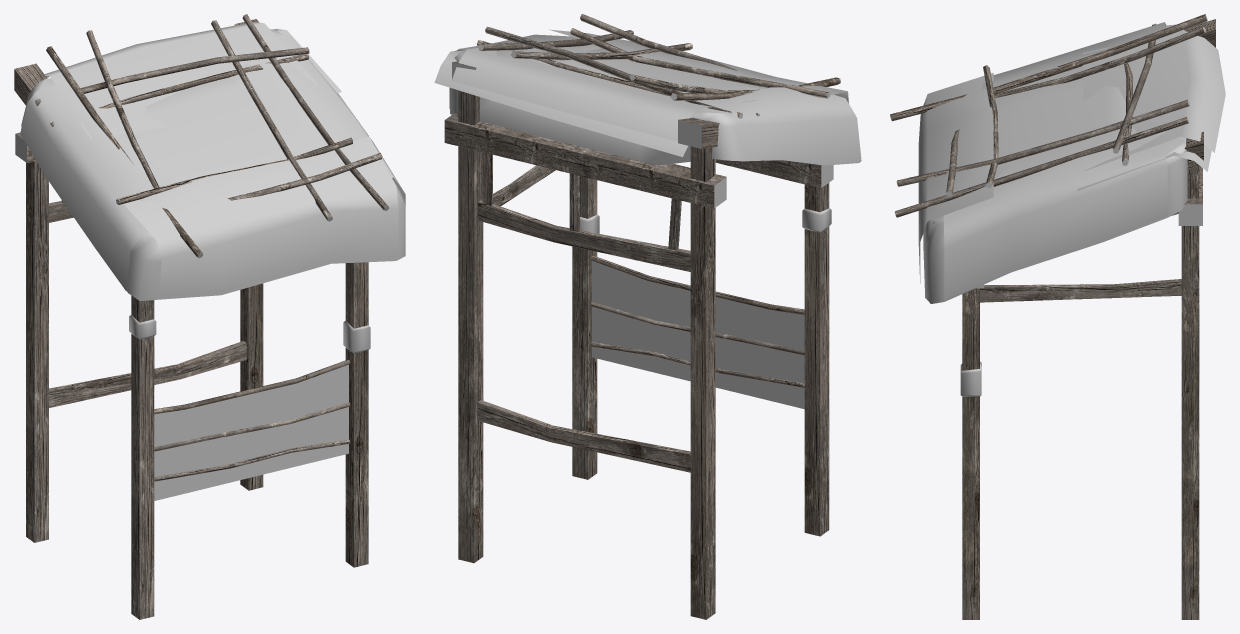
File: Stall4.fbx
3 renders of one model, left to right at view 1: azimuth 30°, elevation 25°; view 2: azimuth 150°, elevation 25°; view 3: azimuth 270°, elevation 25°, orthographic. The views are drawn at different scales.
Parts seen in each view (by area): view 1: polySurface2551; view 2: polySurface2551; view 3: polySurface2551.
Part boxes in pixels (bbox=[...]): polySurface2551: bbox=[14, 14, 405, 619]; polySurface2551: bbox=[434, 14, 861, 619]; polySurface2551: bbox=[890, 14, 1225, 619].
Bounding box in the file's own units: 3.5 × 5.77 × 3.44.
